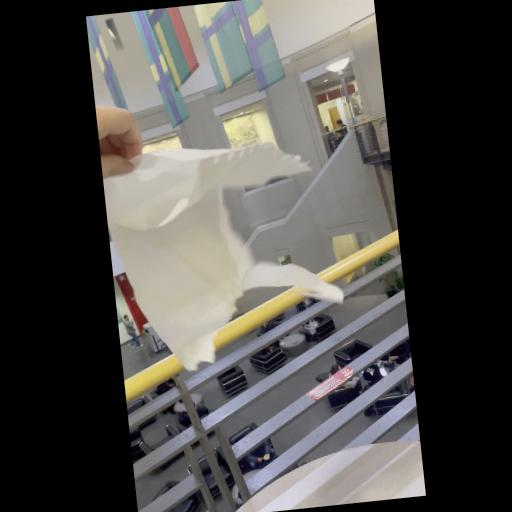napkin: (99, 118, 359, 412)
